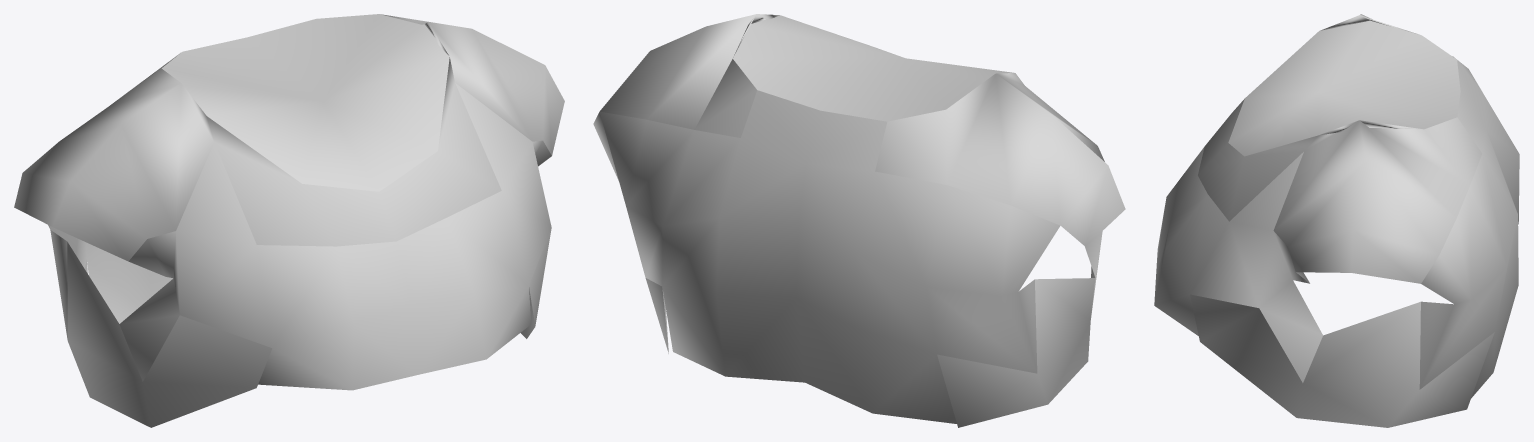
Rendered from spine2.glb.
3 renders of one model, left to right at view 1: azimuth 30°, elevation 25°; view 2: azimuth 150°, elevation 25°; view 3: azimuth 270°, elevation 25°, orthographic. The views are drawn at different scales.
Visible parts, largest first — view 1: sweater-white_SPINE2; view 2: sweater-white_SPINE2; view 3: sweater-white_SPINE2.
Boxes of the visible parts, x1,y1,x2,y2 form: sweater-white_SPINE2: (14,14,564,427); sweater-white_SPINE2: (593,14,1125,427); sweater-white_SPINE2: (1154,14,1519,427).
Bounding box in the file's own units: 0.4746 × 0.2791 × 0.3328.
Materials: 1 (1 with a texture image).
